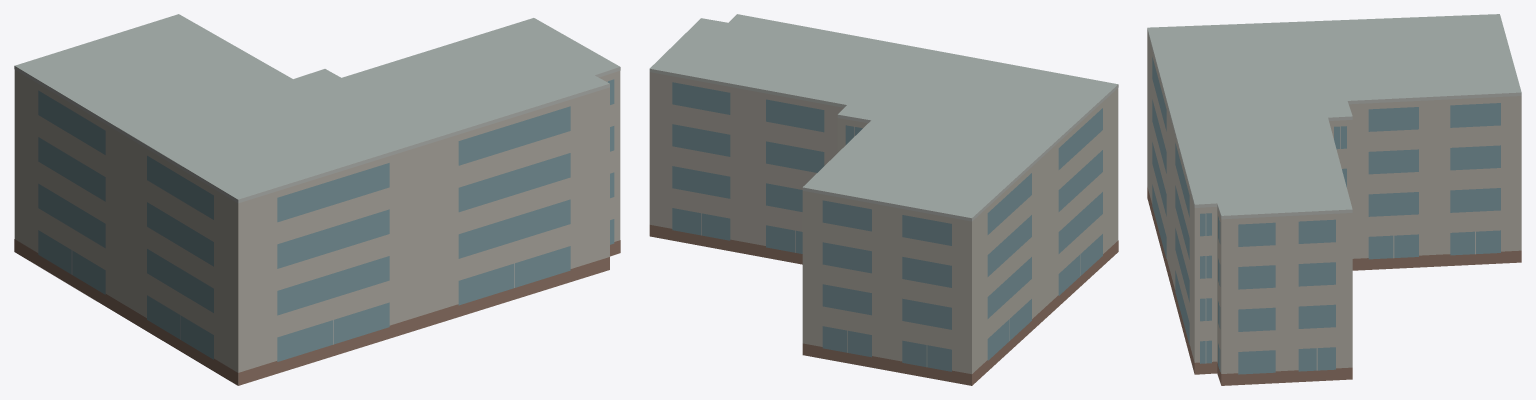
File: survey-upis-32665713.glb
The picture shows the model from 3 angles, left to right: view 1: azimuth 30°, elevation 25°; view 2: azimuth 150°, elevation 25°; view 3: azimuth 270°, elevation 25°; orthographic projection. The views are drawn at different scales.
Parts seen in each view (by area): view 1: survey-upis-32665713.tmp; view 2: survey-upis-32665713.tmp; view 3: survey-upis-32665713.tmp.
Boxes of the visible parts, bbox=[...] form: survey-upis-32665713.tmp: bbox=[14, 14, 620, 385]; survey-upis-32665713.tmp: bbox=[649, 14, 1118, 385]; survey-upis-32665713.tmp: bbox=[1147, 14, 1521, 385].
Size of the model in its own units: 31.09 by 12.2 by 24.36.
